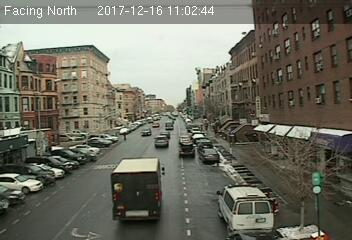car: (201, 149, 220, 162), (153, 135, 169, 149), (179, 142, 195, 156), (139, 128, 152, 137)
police: (216, 181, 276, 234)
ups: (109, 157, 166, 222)
